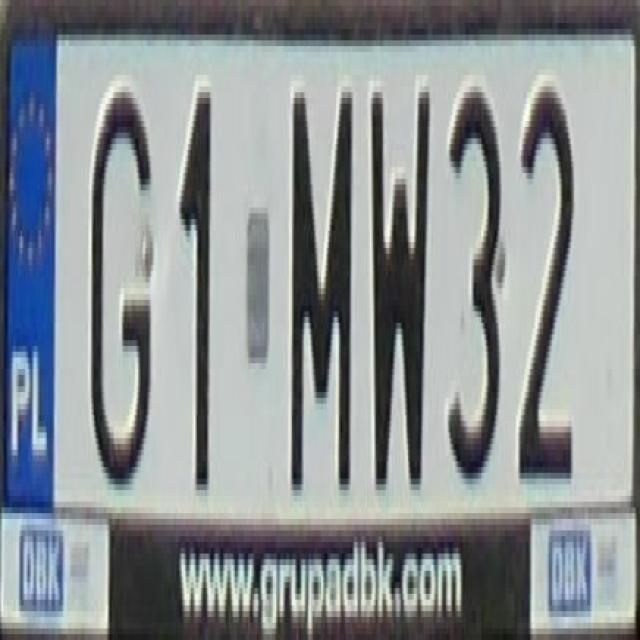pl_license_plate: (3, 23, 631, 490)
